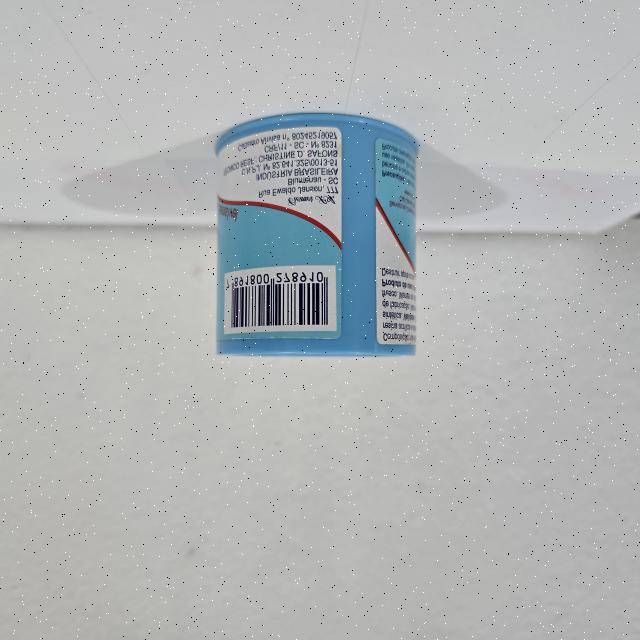procitex: (211, 110, 424, 363)
